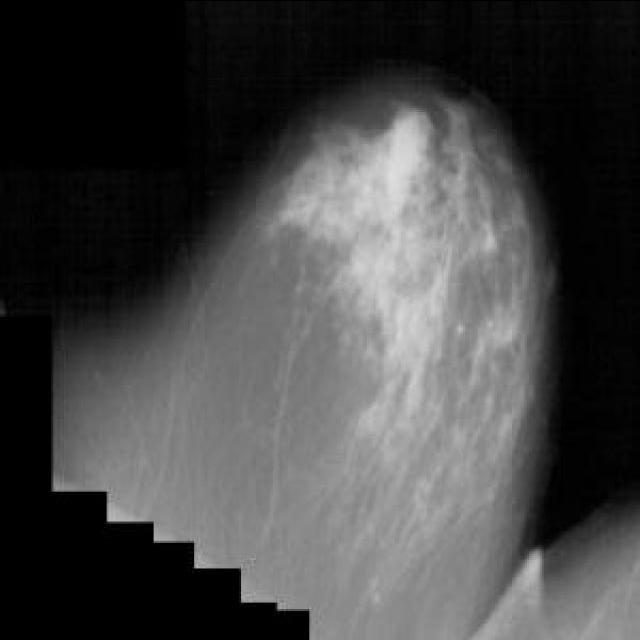tumor: (268, 104, 500, 418)
